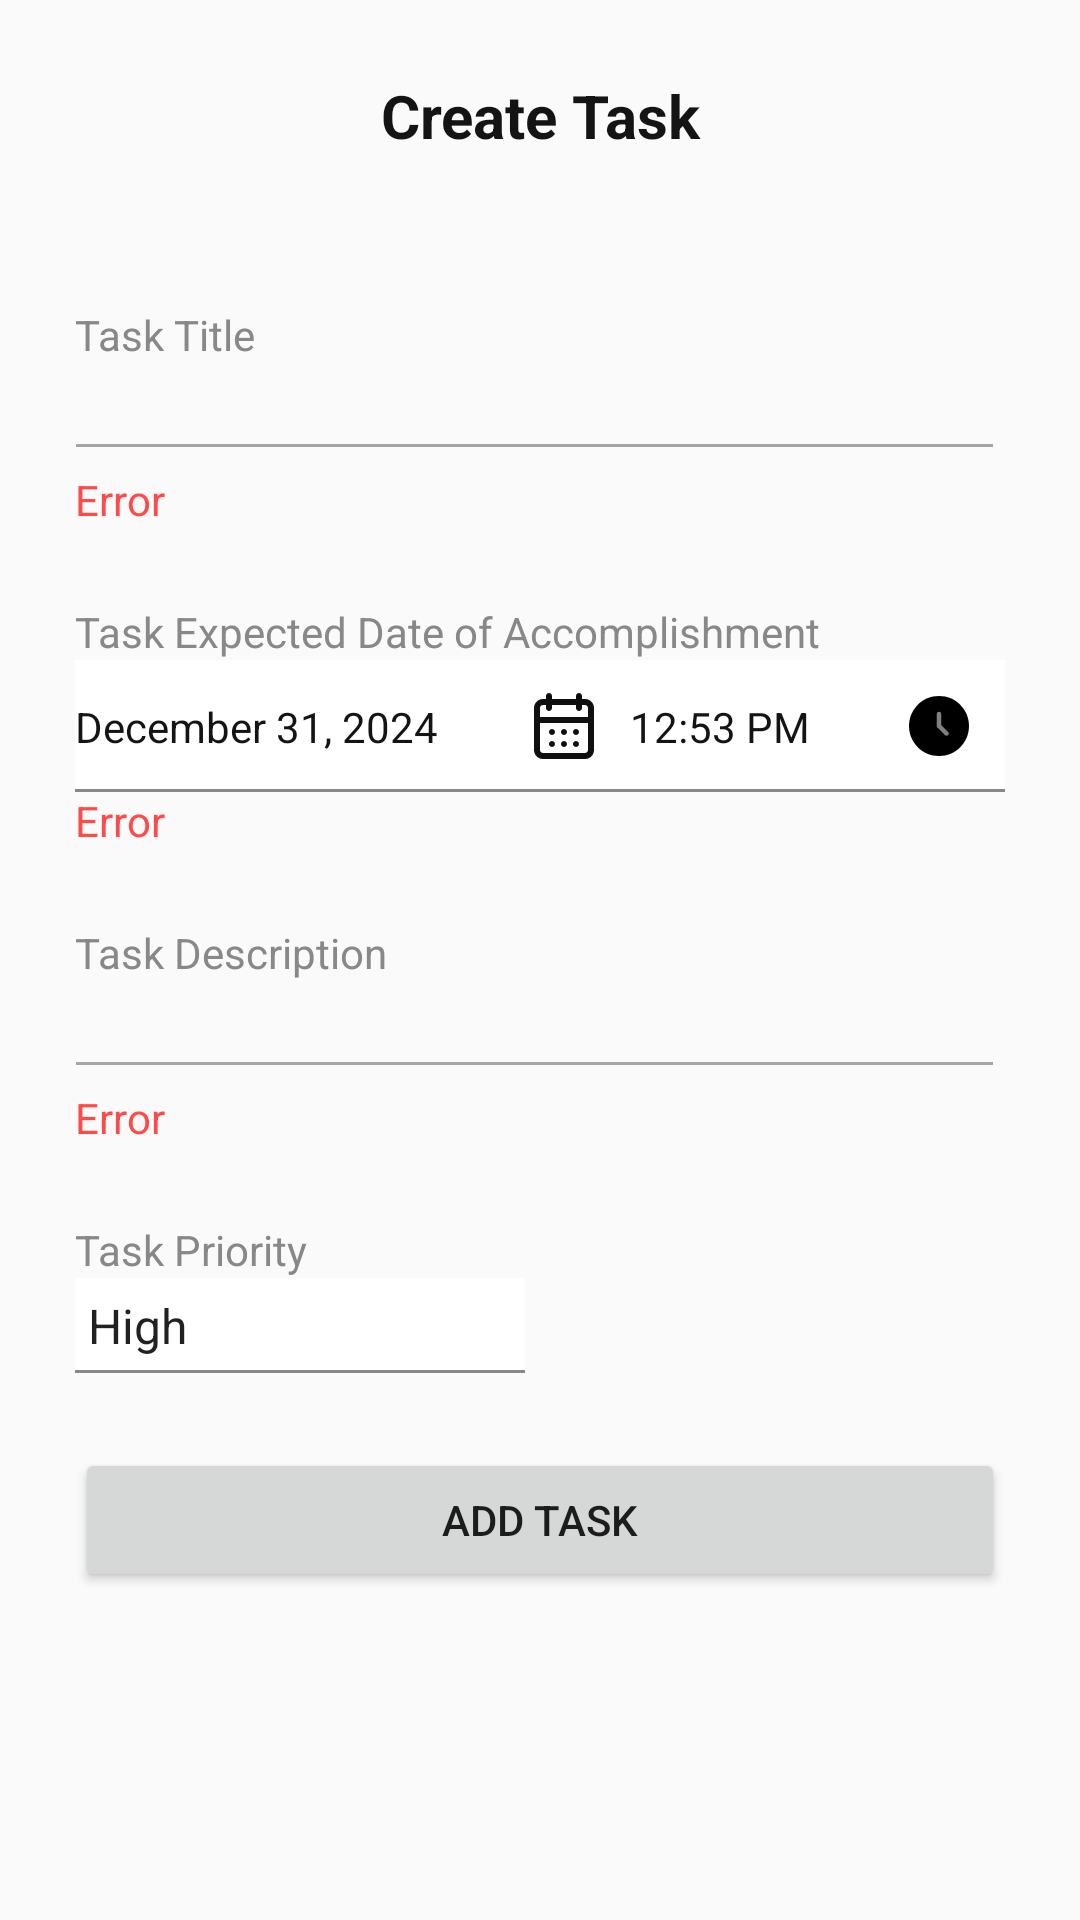

Named icons in this screenshot (1080x1920) and their bounding boxes, region(x1, y1, x2, y2):
calendar: region(534, 693, 594, 759)
clock: region(909, 696, 969, 756)
